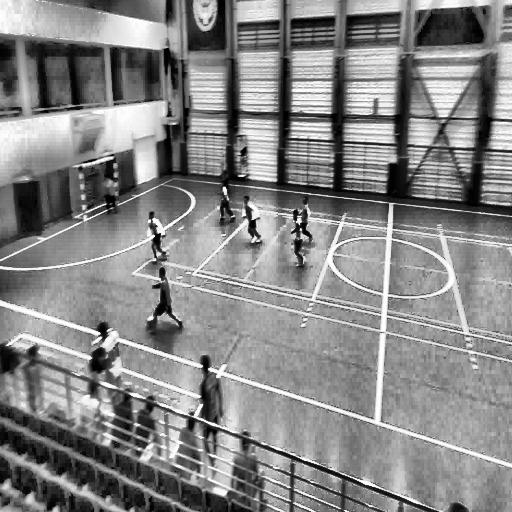ball: (148, 316, 154, 328)
player: (197, 356, 223, 466), (91, 322, 120, 397), (150, 266, 182, 332), (288, 208, 306, 270), (148, 211, 167, 264), (243, 196, 262, 246), (219, 173, 236, 224), (299, 195, 314, 244), (105, 172, 118, 215), (219, 159, 231, 196)
